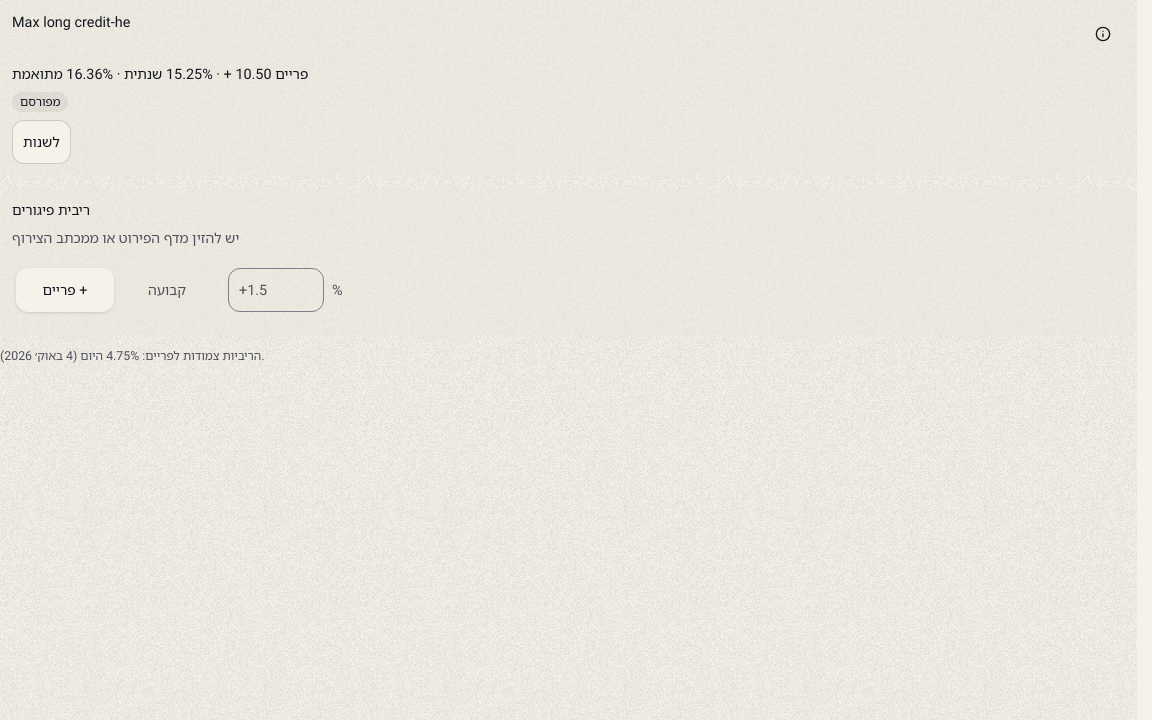
Test: rate table › says it in Hebrew, never the research note
The image size is (1152, 720).
Click the button named "פרטים על Max long credit-he" at (1103, 34), box 1081,12 -> 1125,56
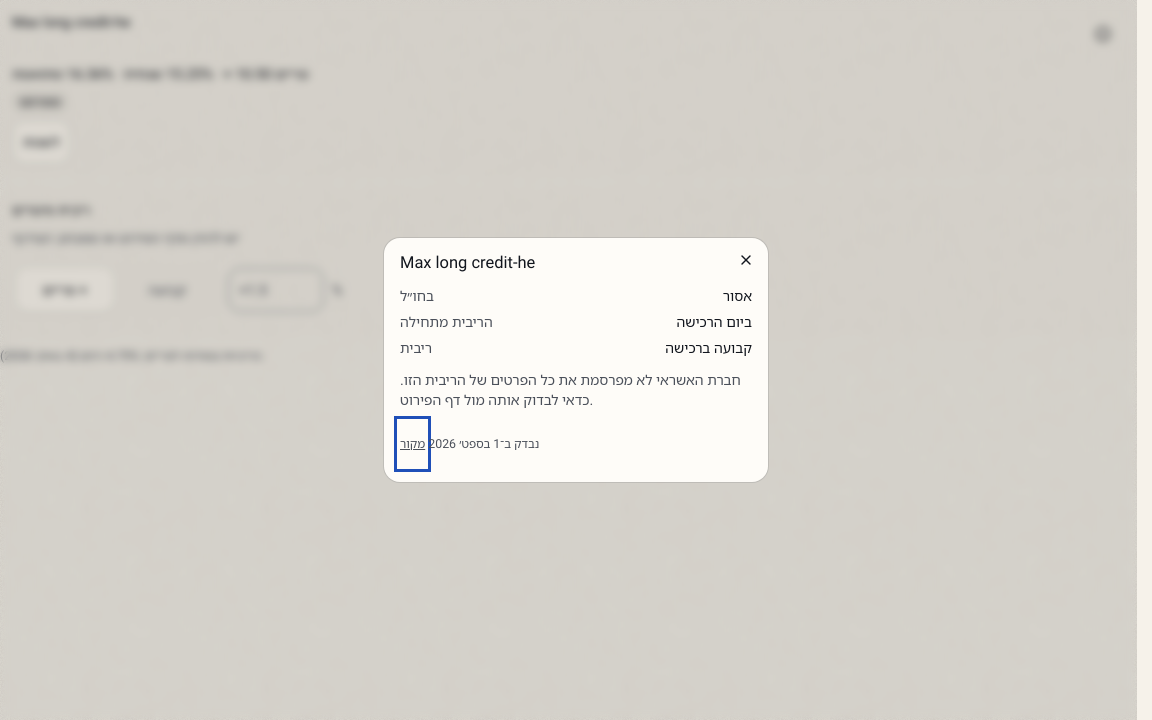
Check: the text "חברת האשראי לא מפרסמת את כל הפרטים של הריבית הזו. כדאי לבדוק אותה מול דף הפירוט." is shown, box 400,370 -> 752,410
